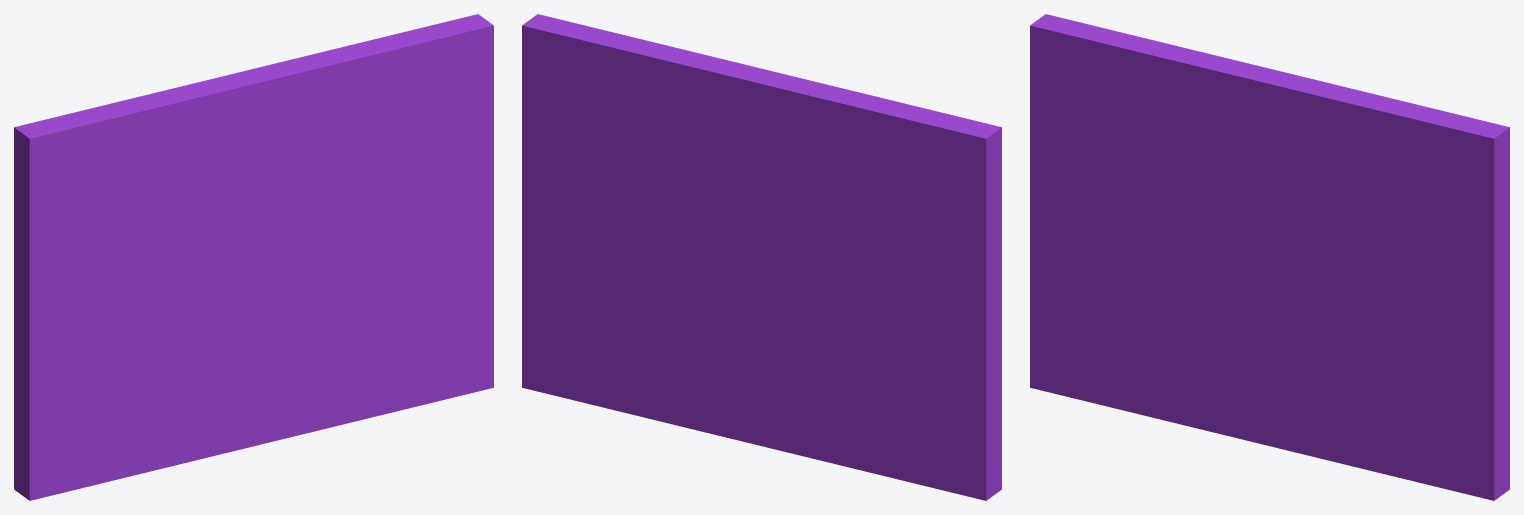
Rendered from Barrier_19_chunks.fbx.
3 renders of one model, left to right at view 1: azimuth 30°, elevation 25°; view 2: azimuth 150°, elevation 25°; view 3: azimuth 330°, elevation 25°, orthographic.
Visible parts, largest first — view 1: Barrier_19_0, Barrier_19_2, Barrier_19_5, Barrier_19_6, Barrier_19_4, Barrier_19_1, Barrier_19_3; view 2: Barrier_19_2, Barrier_19_0, Barrier_19_5, Barrier_19_1, Barrier_19_6, Barrier_19_4; view 3: Barrier_19_2, Barrier_19_0, Barrier_19_5, Barrier_19_6, Barrier_19_4, Barrier_19_1, Barrier_19_3.
Boxes of the visible parts, x1,y1,x2,y2 form: Barrier_19_0: (14, 146, 264, 500); Barrier_19_2: (259, 40, 493, 439); Barrier_19_5: (276, 14, 493, 210); Barrier_19_6: (14, 63, 283, 188); Barrier_19_4: (122, 154, 310, 253); Barrier_19_1: (184, 329, 281, 462); Barrier_19_3: (227, 71, 305, 164); Barrier_19_2: (522, 53, 739, 431); Barrier_19_0: (786, 135, 1001, 500); Barrier_19_5: (522, 14, 755, 222); Barrier_19_1: (703, 256, 909, 482); Barrier_19_6: (725, 68, 1001, 202); Barrier_19_4: (704, 151, 911, 259); Barrier_19_2: (1259, 153, 1509, 500); Barrier_19_0: (1030, 33, 1265, 425); Barrier_19_5: (1277, 78, 1509, 234); Barrier_19_6: (1030, 14, 1306, 137); Barrier_19_4: (1123, 120, 1310, 254); Barrier_19_1: (1184, 327, 1282, 448); Barrier_19_3: (1227, 83, 1306, 171).
Size of the model in its own units: 381 by 284 by 22.39.
